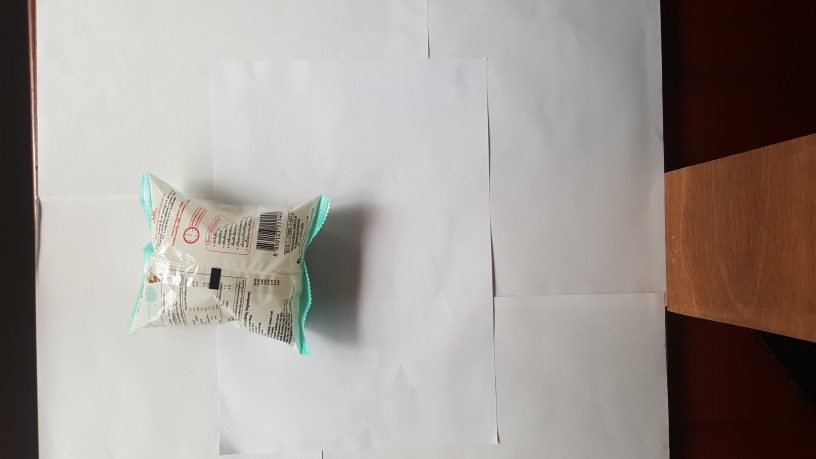farmhouse-sweetsandwich-chocolate: (124, 170, 333, 360)
